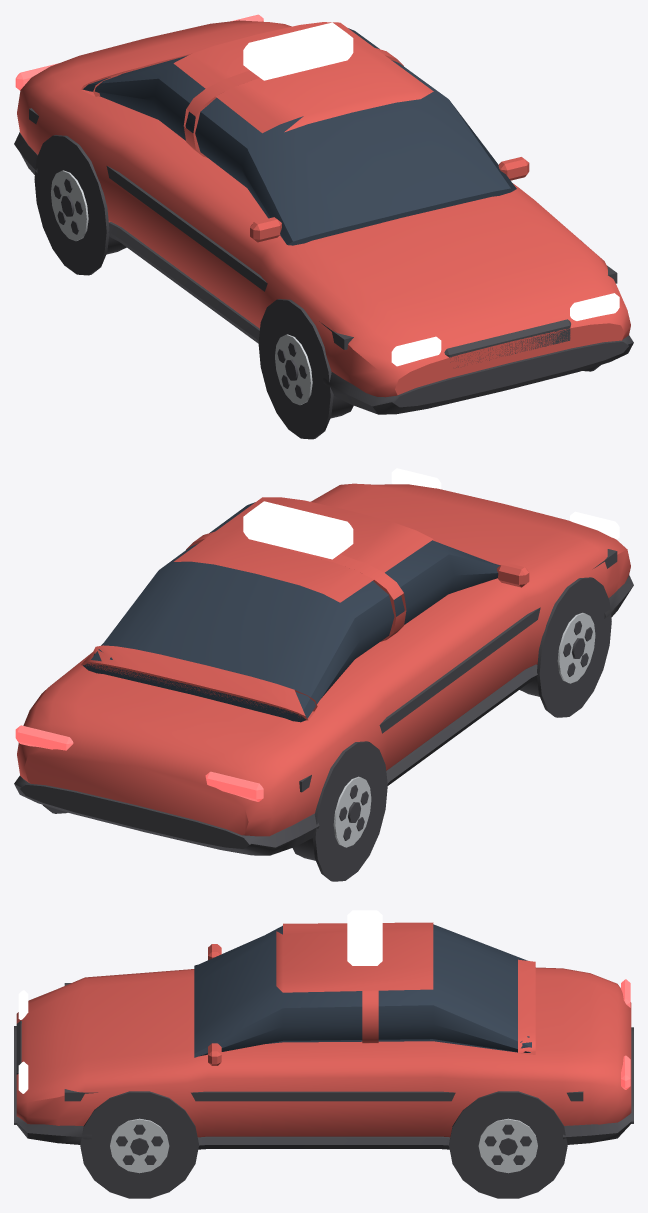
Rendered from car_taxi.glb.
3 views of the same model, one above another, from view 1: azimuth 30°, elevation 25°; view 2: azimuth 150°, elevation 25°; view 3: azimuth 270°, elevation 25° (orthographic). The views are drawn at different scales.
Visible parts, largest first — view 1: body, cabin, roof, bumperF, arch.003, arch.002, sign, stripe, skirts, wheel_FR, wheel_RR, grille (+4 smaller); view 2: body, cabin, roof, bumperR, arch.002, arch.003, pillarC, sign, stripe, skirts, wheel_RR, wheel_FR (+6 smaller); view 3: body, cabin, roof, arch.001, arch, skirts, stripe, wheel_FL, wheel_RL, sign, pillarC, bumperF (+2 smaller).
Boxes of the visible parts, x1,y1,x2,y2 form: body: (17,20,630,397); cabin: (82,28,516,245); roof: (173,22,433,133); bumperF: (322,335,633,414); arch.003: (34,135,109,275); arch.002: (258,299,333,439); sign: (243,22,353,80); stripe: (29,108,617,349); skirts: (108,222,259,343); wheel_FR: (275,334,353,418); wheel_RR: (51,170,126,254); grille: (444,319,570,367); body: (17,483,630,836); cabin: (83,502,499,722); roof: (174,497,433,602); bumperR: (14,776,319,855); arch.002: (537,577,611,717); arch.003: (312,741,387,881); pillarC: (81,645,317,720); sign: (243,501,353,559); stripe: (299,549,617,792); skirts: (386,664,537,785); wheel_RR: (292,776,371,860); wheel_FR: (519,612,595,696); body: (16,967,631,1137); cabin: (194,924,531,1057); roof: (276,922,433,992); arch.001: (449,1091,567,1198); arch: (80,1091,198,1198); skirts: (197,1136,450,1149); stripe: (64,983,583,1101); wheel_FL: (110,1118,169,1173); wheel_RL: (478,1118,537,1173); sign: (347,910,382,965); pillarC: (518,959,535,1054); bumperF: (14,1026,91,1144).
Size of the model in its own units: 2.01 by 1.74 by 4.54.
